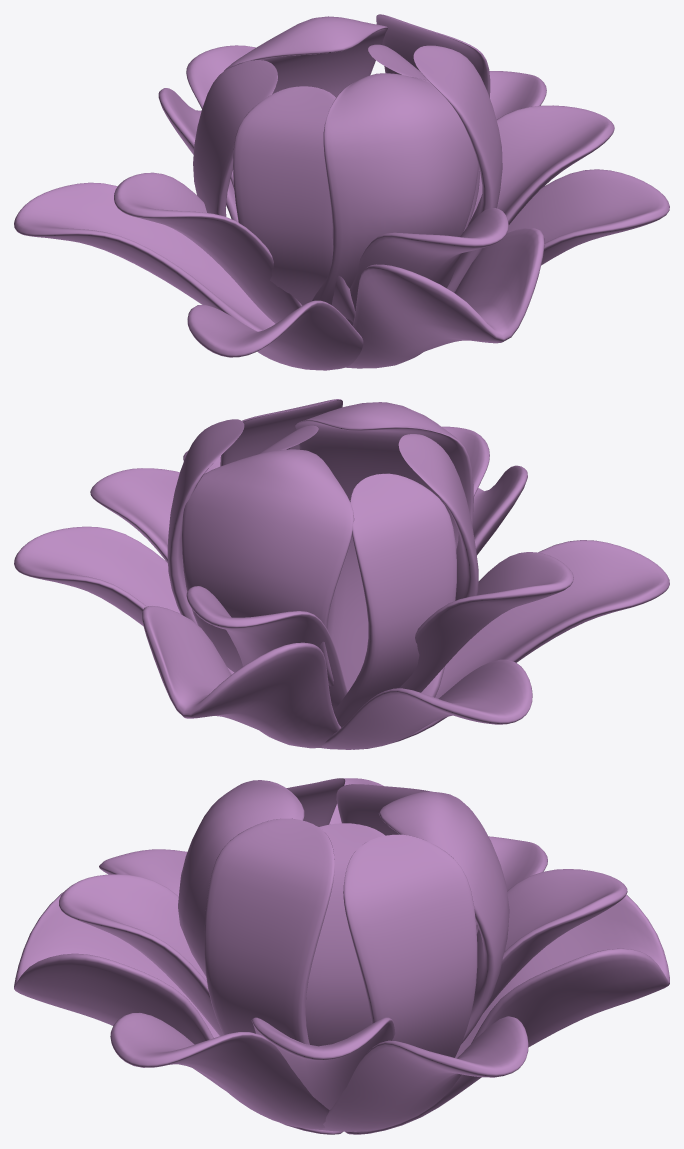
Rendered from flower_purple.fbx.
The picture shows the model from 3 angles, top to bottom: view 1: azimuth 30°, elevation 25°; view 2: azimuth 150°, elevation 25°; view 3: azimuth 270°, elevation 25°; orthographic projection. The views are drawn at different scales.
Parts seen in each view (by area): view 1: flower003; view 2: flower003; view 3: flower003.
Boxes of the visible parts, left/top/right/bottom form: flower003: left=14, top=14, right=669, bottom=370; flower003: left=14, top=399, right=669, bottom=749; flower003: left=14, top=778, right=669, bottom=1134.
Size of the model in its own units: 4.56 by 2.62 by 4.69.
